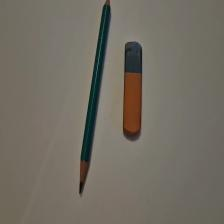eraser: (124, 42, 143, 137)
pencil: (80, 1, 112, 195)
